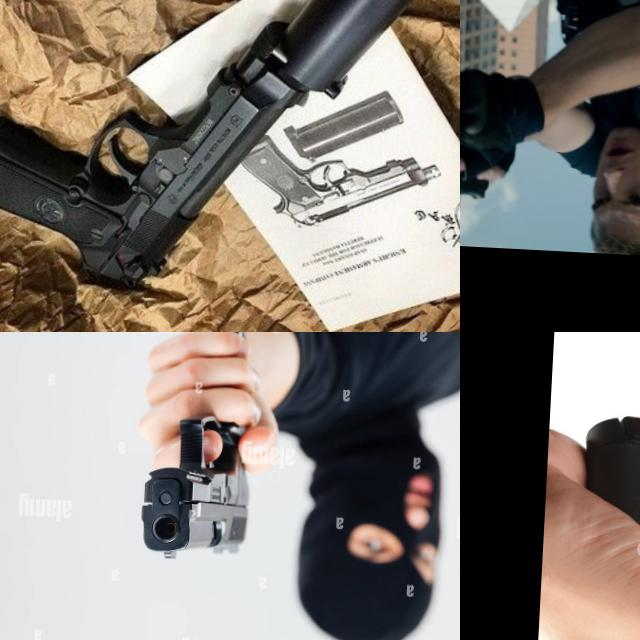handgun: (0, 0, 314, 301), (131, 407, 261, 570), (559, 404, 640, 640), (460, 130, 529, 209)
